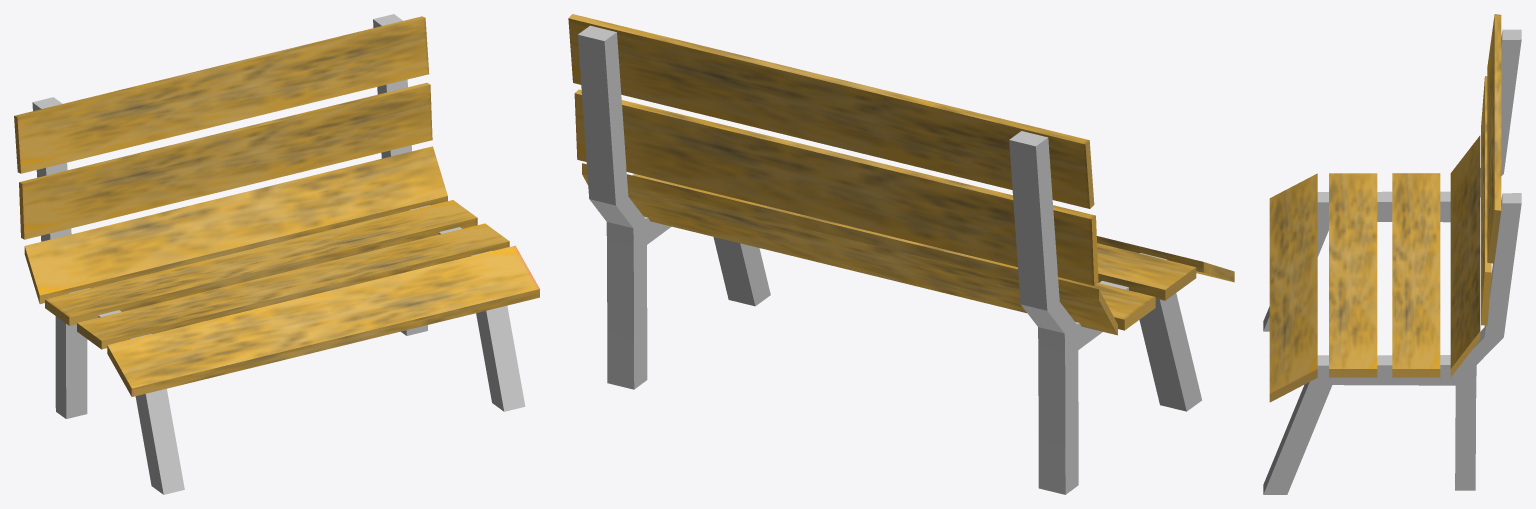
Rendered from BancoMadeiraLOD0.fbx.
3 renders of one model, left to right at view 1: azimuth 30°, elevation 25°; view 2: azimuth 150°, elevation 25°; view 3: azimuth 270°, elevation 25°, orthographic. The views are drawn at different scales.
Visible parts, largest first — view 1: CadeiraLOD0; view 2: CadeiraLOD0; view 3: CadeiraLOD0.
Boxes of the visible parts, <box> form: CadeiraLOD0: <box>14,14,539,494</box>; CadeiraLOD0: <box>568,14,1234,494</box>; CadeiraLOD0: <box>1263,14,1521,494</box>.
Size of the model in its own units: 105 by 73.34 by 58.49.
